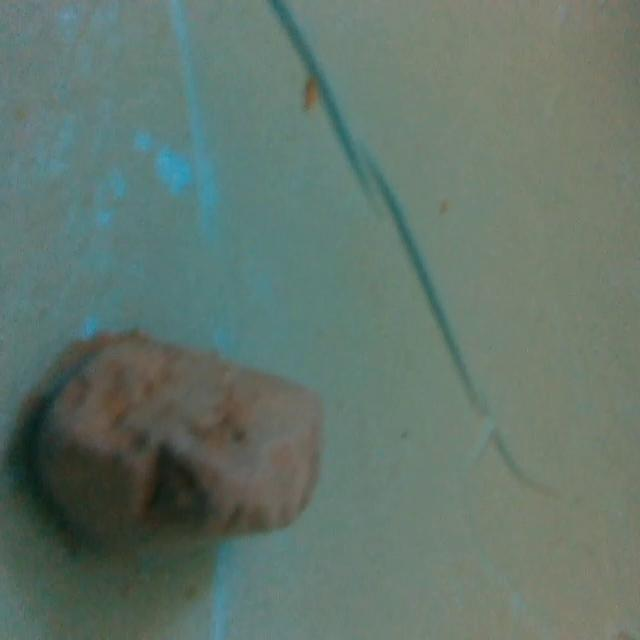rock: (19, 325, 332, 569)
